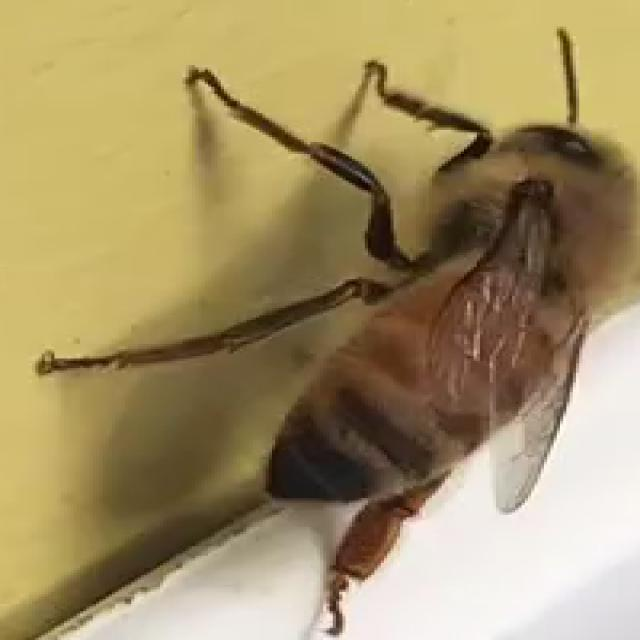honeybee: (292, 86, 615, 569)
